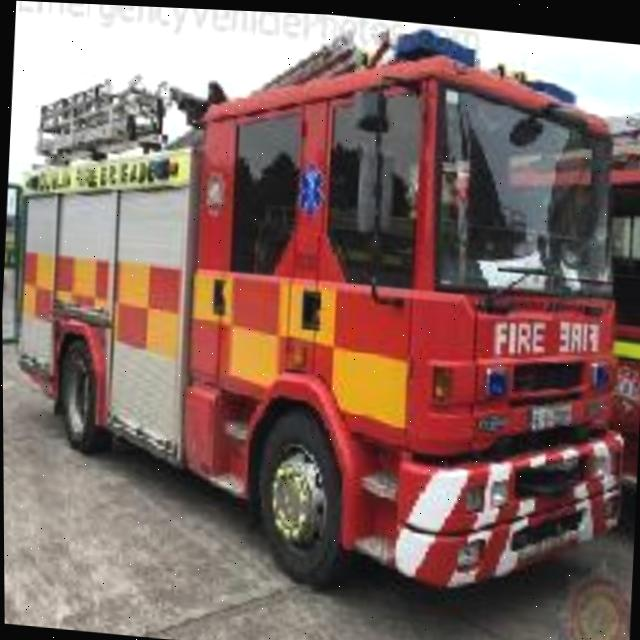emergency: (0, 1, 640, 613)
